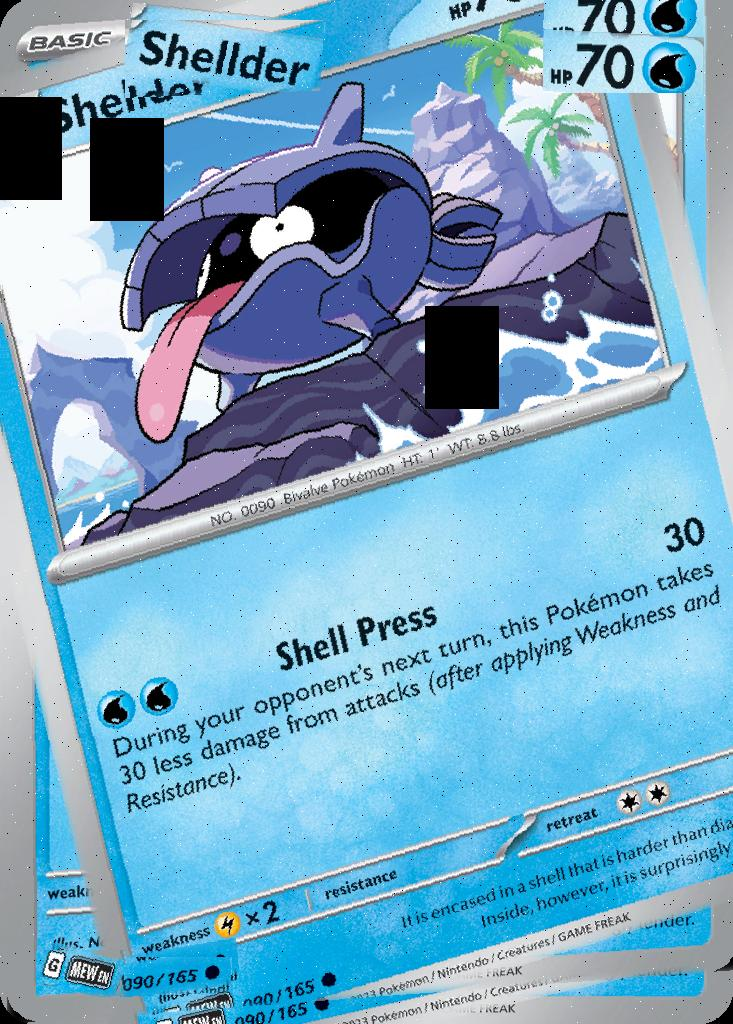card: (0, 0, 733, 1024)
hp: (544, 29, 705, 93)
name: (125, 20, 325, 98)
set num: (122, 958, 232, 998)
set symbol: (37, 951, 126, 1002)
